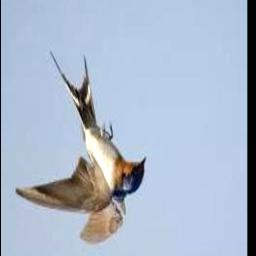Swallow: (14, 49, 145, 245)
